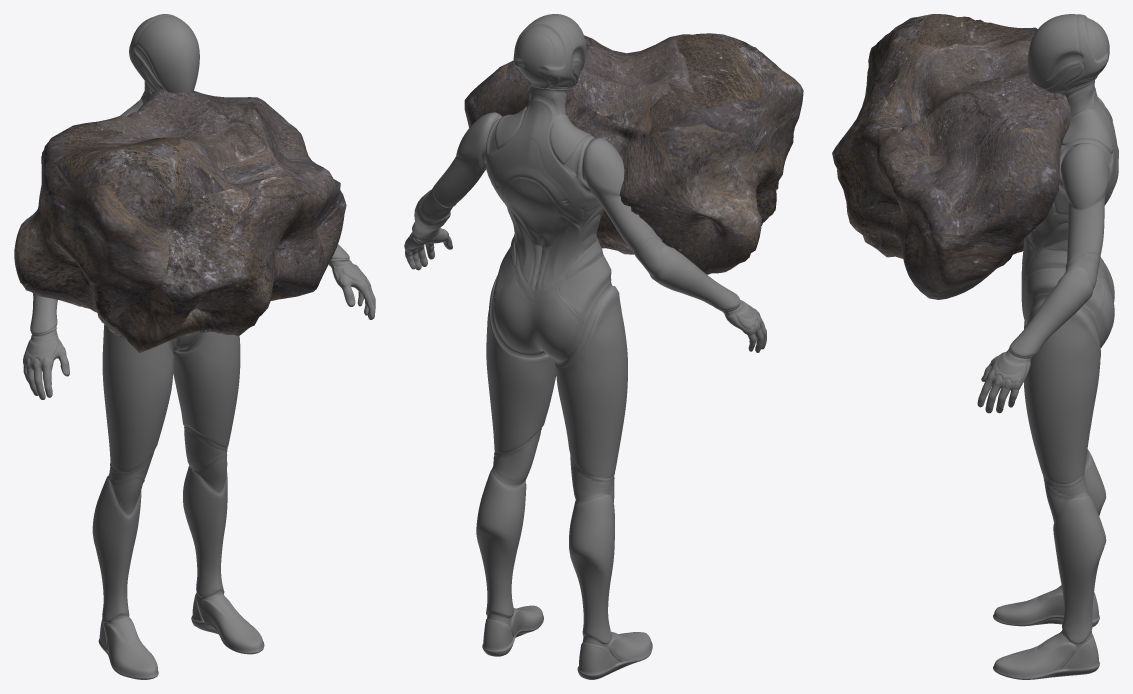
File: Rock5.fbx
3 renders of one model, left to right at view 1: azimuth 30°, elevation 25°; view 2: azimuth 150°, elevation 25°; view 3: azimuth 270°, elevation 25°, orthographic. The views are drawn at different scales.
Visible parts, largest first — view 1: Cube, SKM_Quinn_LOD0; view 2: SKM_Quinn_LOD0, Cube; view 3: Cube, SKM_Quinn_LOD0.
Part boxes in pixels (x1,y1,x2,y2): Cube: (14, 89, 346, 352); SKM_Quinn_LOD0: (23, 14, 375, 679); SKM_Quinn_LOD0: (404, 14, 766, 679); Cube: (464, 33, 803, 274); Cube: (832, 14, 1071, 299); SKM_Quinn_LOD0: (977, 14, 1118, 679).
Bounding box in the file's own units: 105 × 180 × 74.25.
Materials: 3 (1 with a texture image).
